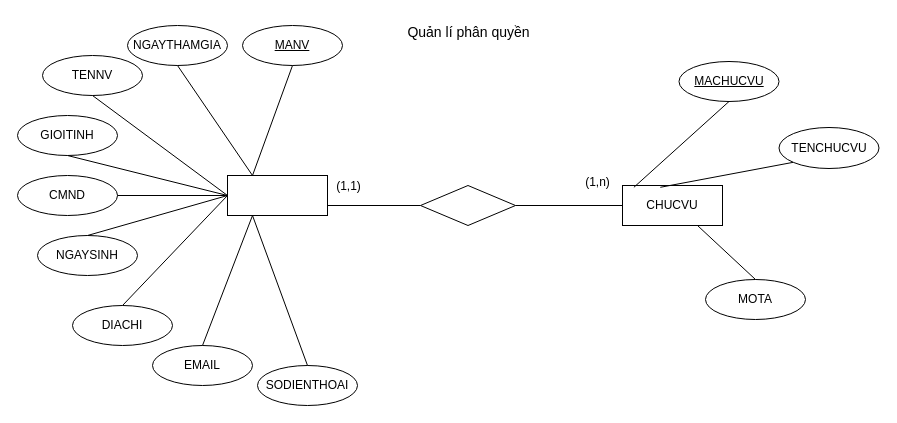
This 897x423 diagram has some shape labels left out. The centre of each missing label's shape, as x and y in pixels:
"co" goes at [468,205].
"NHANVIEN" goes at [277,195].
